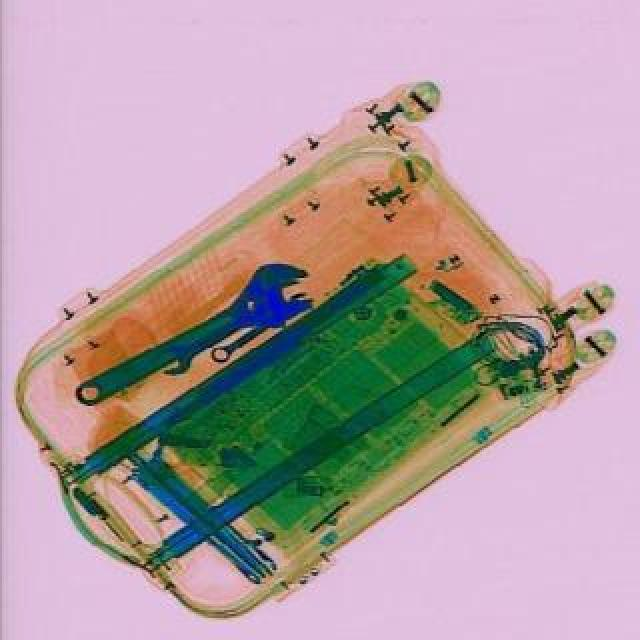scissors: (58, 246, 326, 426), (206, 286, 314, 366), (148, 304, 252, 380)
